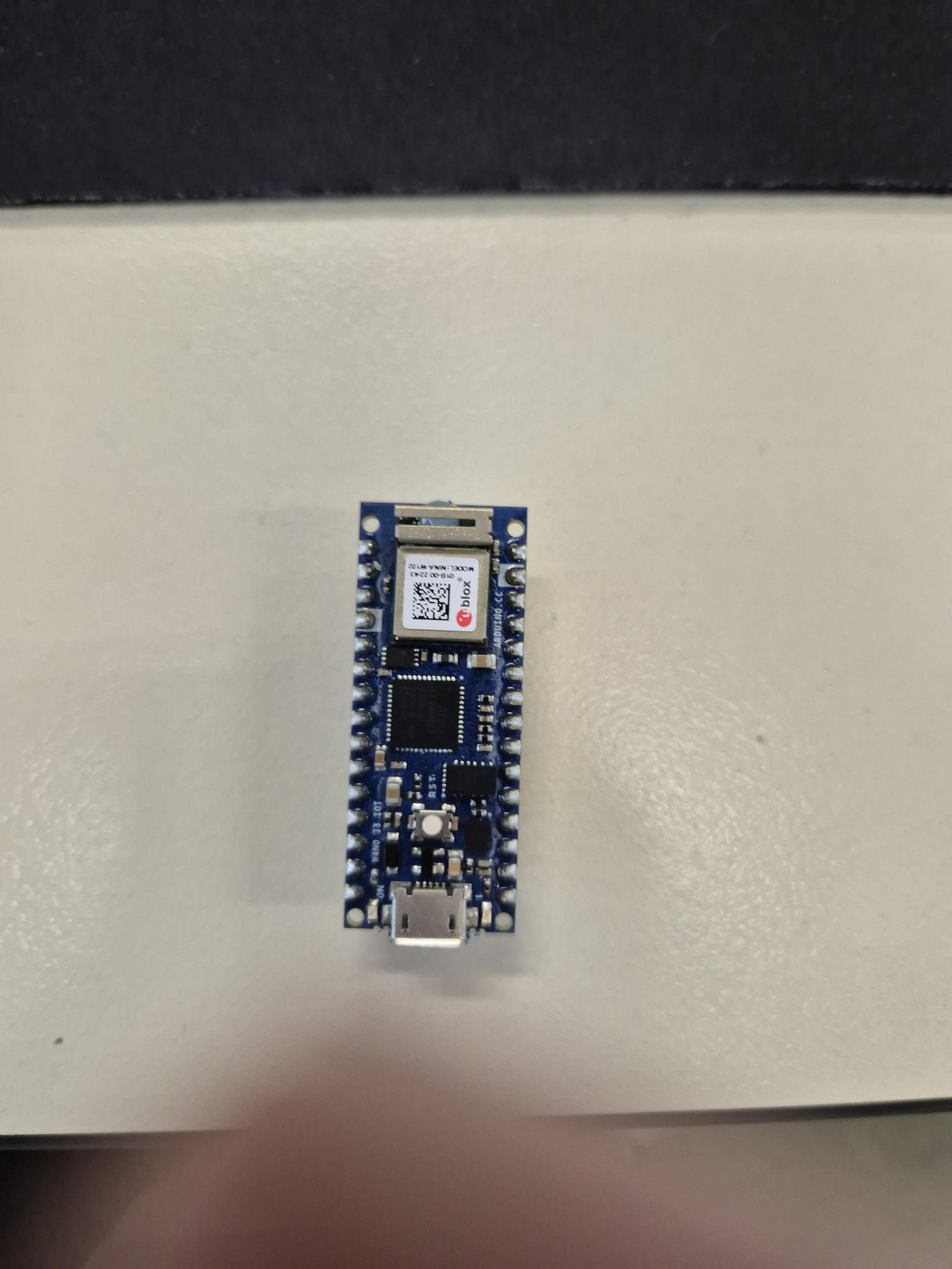arduino-nano-iot-33: (349, 496, 519, 936)
